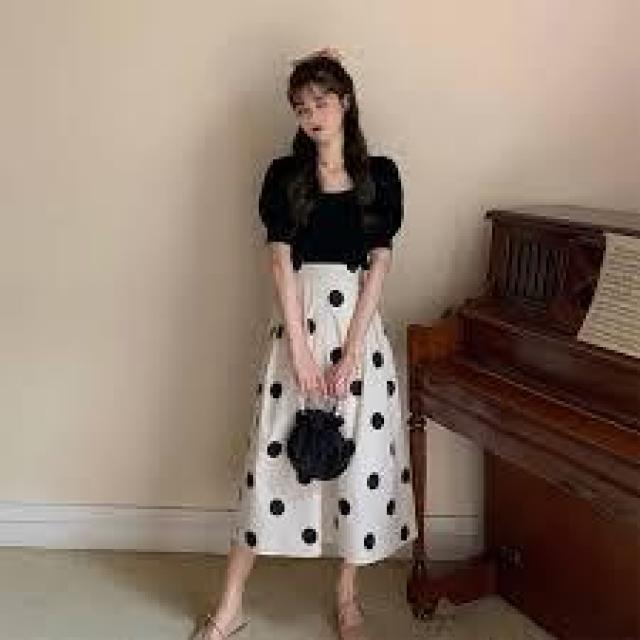skirt: (228, 264, 418, 572)
